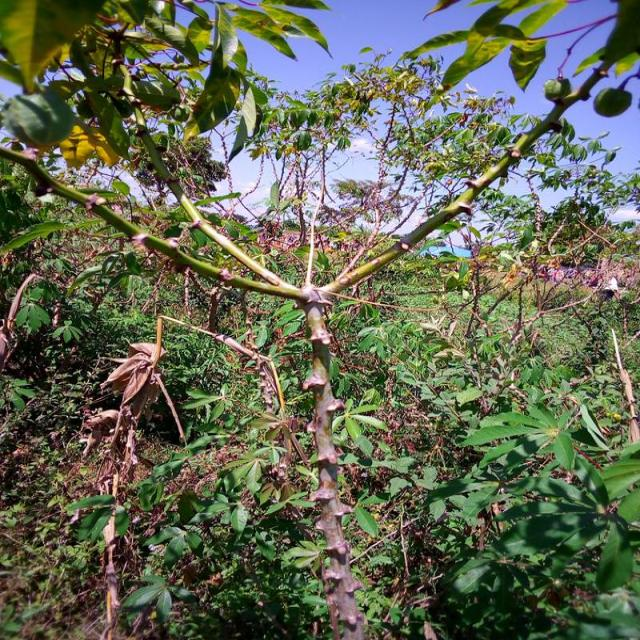cassava leaf: (4, 88, 74, 148)
